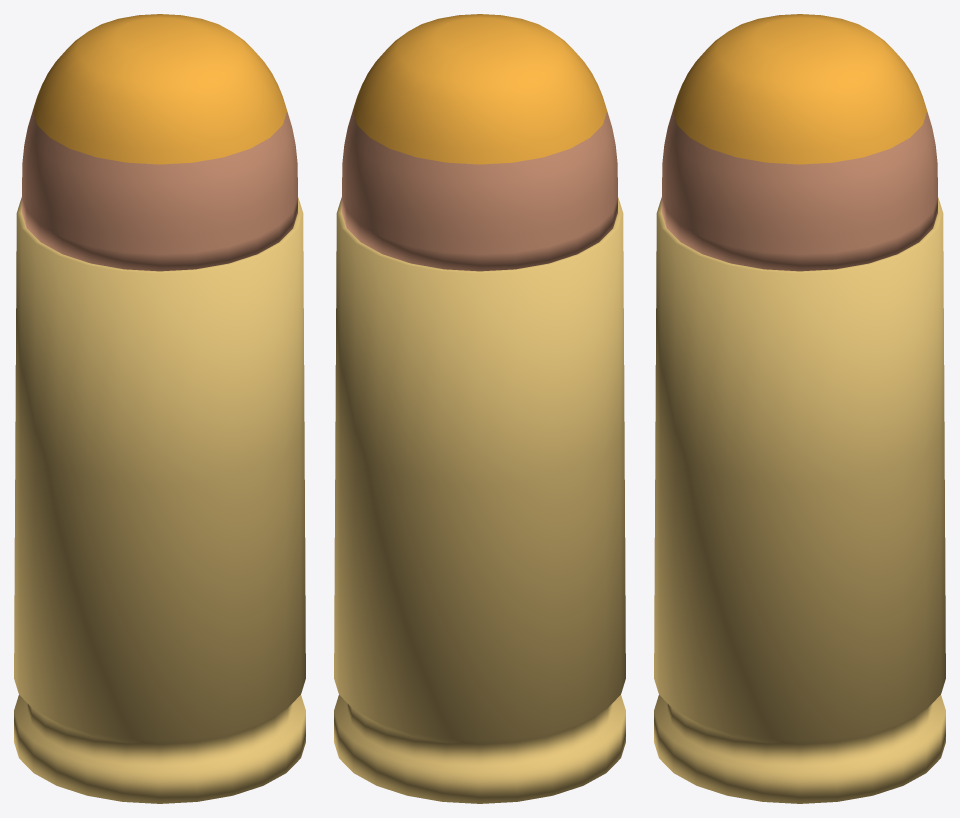
3 views of the same model, side by side, from view 1: azimuth 30°, elevation 25°; view 2: azimuth 150°, elevation 25°; view 3: azimuth 270°, elevation 25° (orthographic).
Visible parts, largest first — view 1: vaina, bala_cuerpo, punta; view 2: vaina, bala_cuerpo, punta; view 3: vaina, bala_cuerpo, punta.
Part boxes in pixels (x1,y1,x2,y2): vaina: (14,197,305,803); bala_cuerpo: (22,111,297,271); punta: (32,14,287,164); vaina: (334,197,625,803); bala_cuerpo: (342,111,617,271); punta: (352,14,607,164); vaina: (654,197,945,803); bala_cuerpo: (662,111,937,271); punta: (672,14,927,164).
Size of the model in its own units: 0.0108 by 0.0288 by 0.0108.
